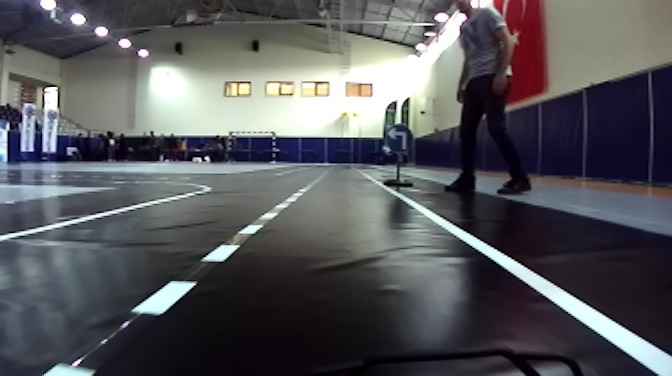sola_donus: (385, 124, 416, 151)
